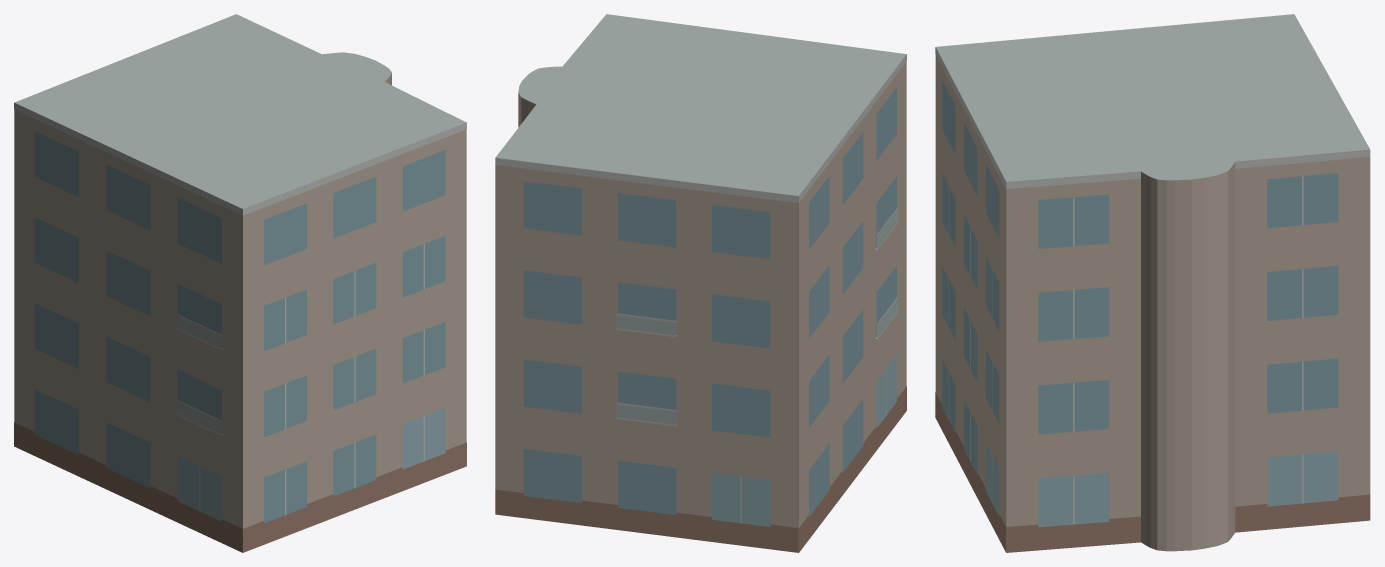
File: survey-upis-32913973.glb
3 views of the same model, side by side, from view 1: azimuth 30°, elevation 25°; view 2: azimuth 150°, elevation 25°; view 3: azimuth 270°, elevation 25° (orthographic). The views are drawn at different scales.
Visible parts, largest first — view 1: survey-upis-32913973.tmp; view 2: survey-upis-32913973.tmp; view 3: survey-upis-32913973.tmp.
Part boxes in pixels (<box>): survey-upis-32913973.tmp: <box>14,14,466,552</box>; survey-upis-32913973.tmp: <box>495,14,906,552</box>; survey-upis-32913973.tmp: <box>935,14,1370,552</box>.
Bounding box in the file's own units: 12.05 × 12.4 × 13.18.
